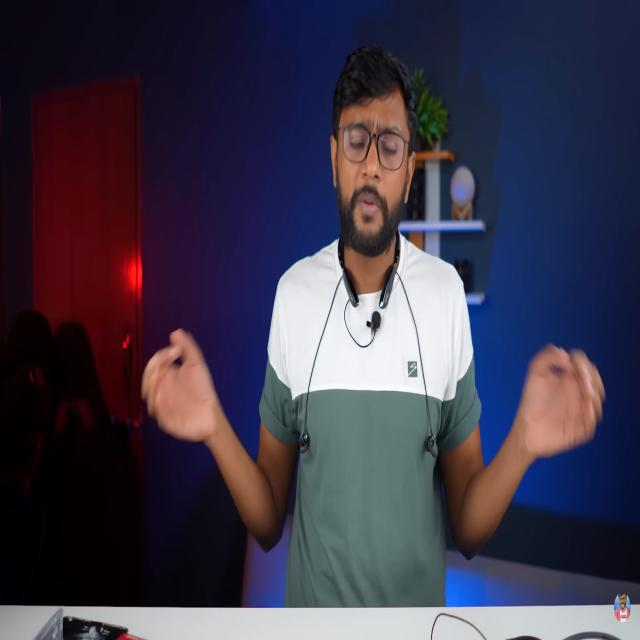Headphone: (297, 224, 436, 458)
